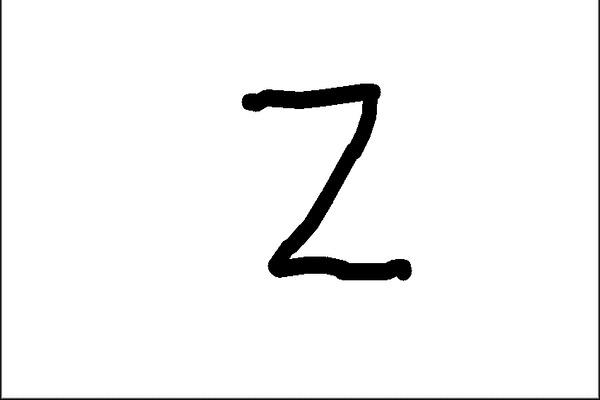Z: (233, 73, 418, 286)
